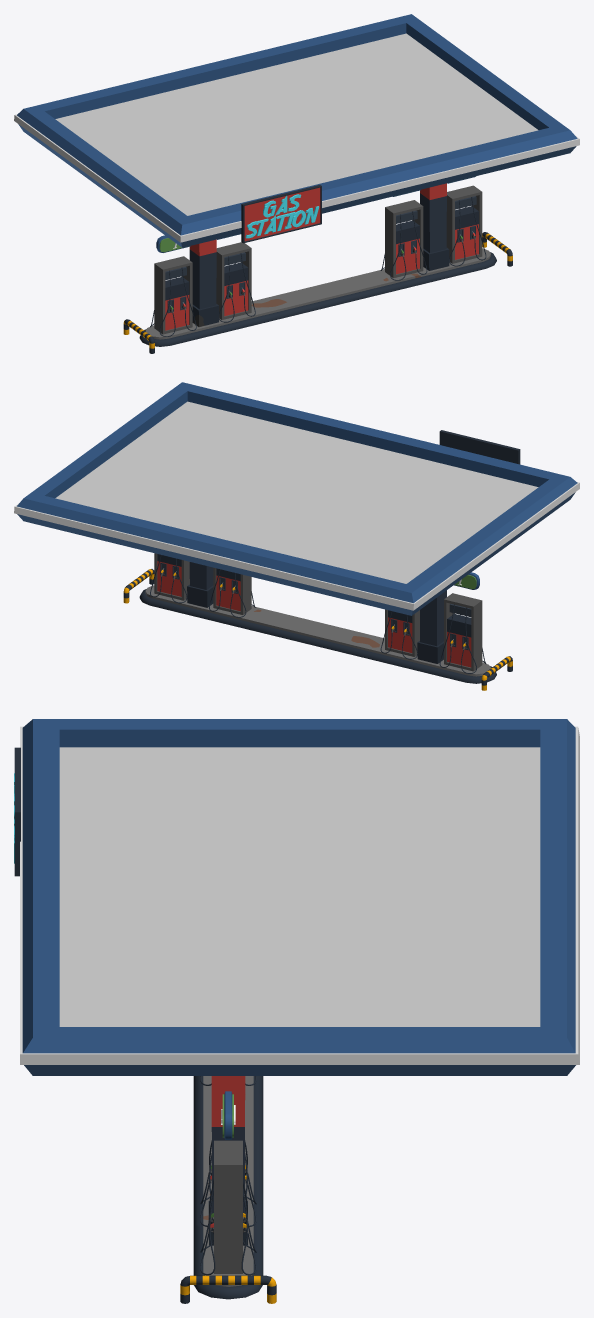
Rendered from SM_Buildings_Gas_Station_02.fbx.
3 views of the same model, one above another, from view 1: azimuth 30°, elevation 25°; view 2: azimuth 150°, elevation 25°; view 3: azimuth 270°, elevation 25° (orthographic). The views are drawn at different scales.
Parts seen in each view (by area): view 1: SM_Buildings_Gas_Station_02; view 2: SM_Buildings_Gas_Station_02; view 3: SM_Buildings_Gas_Station_02.
Part boxes in pixels (bbox=[...]): SM_Buildings_Gas_Station_02: bbox=[14, 14, 579, 353]; SM_Buildings_Gas_Station_02: bbox=[14, 382, 579, 690]; SM_Buildings_Gas_Station_02: bbox=[14, 719, 579, 1303].
Bounding box in the file's own units: 16.11 × 6.73 × 11.76.
